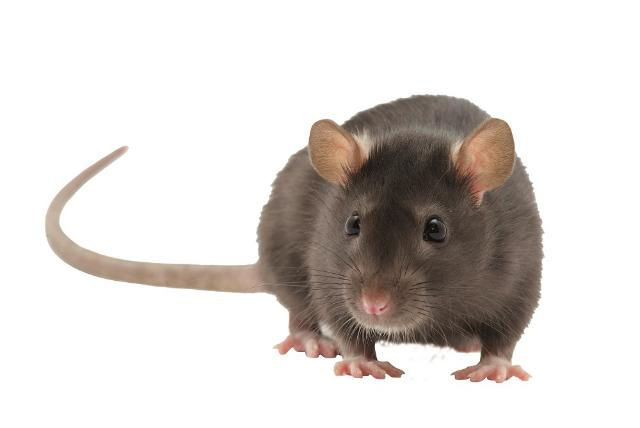rat: (207, 91, 568, 396)
